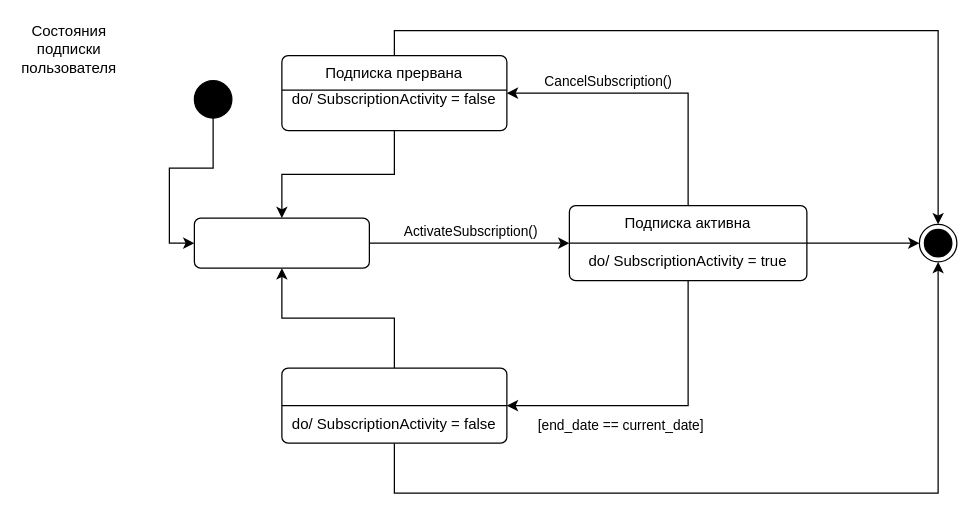
Some shapes in this 979 by 525 pixel diagram are drawn without their labels. Each missing label, with the box of its shape:
Подписка закончилась: (281, 367, 507, 443)
Подписка отсутствует: (193, 217, 369, 268)
